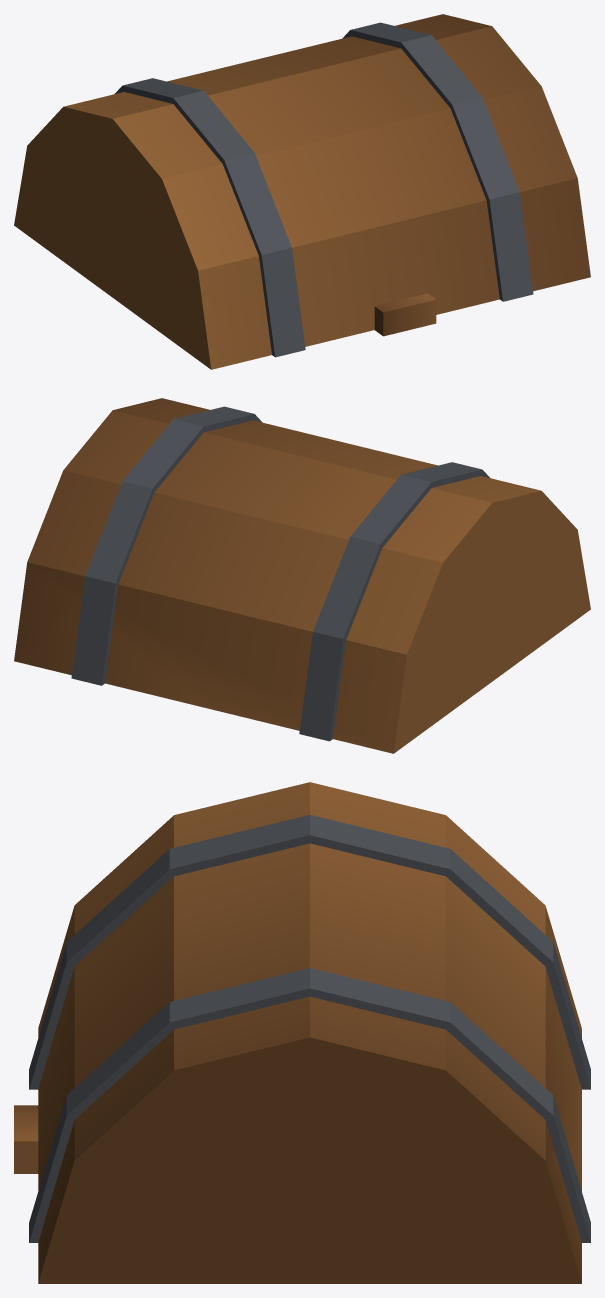
The model's file is Chest_Lid.glb.
The picture shows the model from 3 angles, top to bottom: view 1: azimuth 30°, elevation 25°; view 2: azimuth 150°, elevation 25°; view 3: azimuth 270°, elevation 25°; orthographic projection. The views are drawn at different scales.
Parts seen in each view (by area): view 1: Chest_Lid; view 2: Chest_Lid; view 3: Chest_Lid.
Part boxes in pixels (x1,y1,x2,y2): Chest_Lid: (14, 14, 590, 369); Chest_Lid: (14, 398, 590, 753); Chest_Lid: (14, 782, 590, 1283).
Size of the model in its own units: 1 by 0.465 by 0.955.
